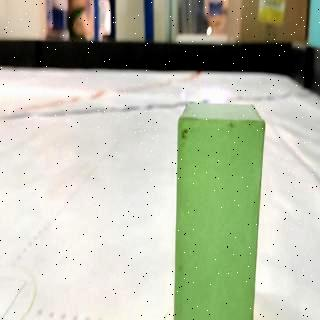greenbox: (172, 99, 268, 320)
